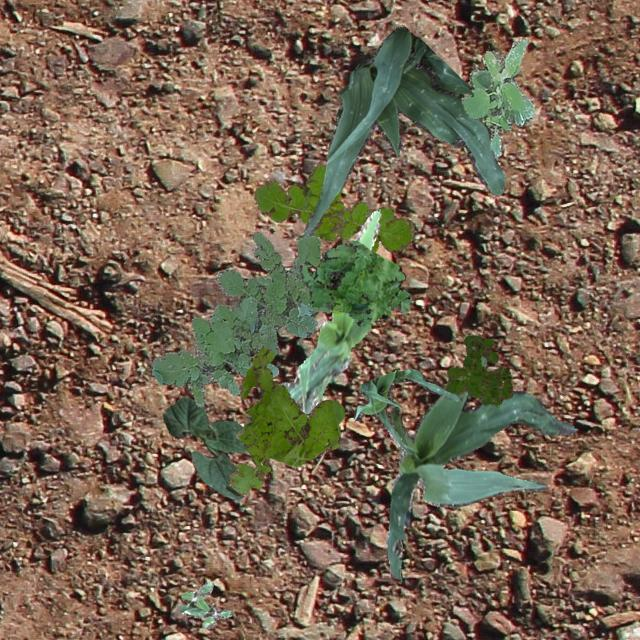crop: (384, 356, 576, 580), (300, 25, 503, 236), (280, 210, 380, 412), (352, 368, 460, 453), (162, 396, 246, 499)
weed: (150, 230, 330, 406), (224, 346, 344, 494), (252, 162, 413, 252), (298, 240, 410, 324), (459, 35, 534, 158), (442, 334, 512, 406), (178, 580, 232, 628)
